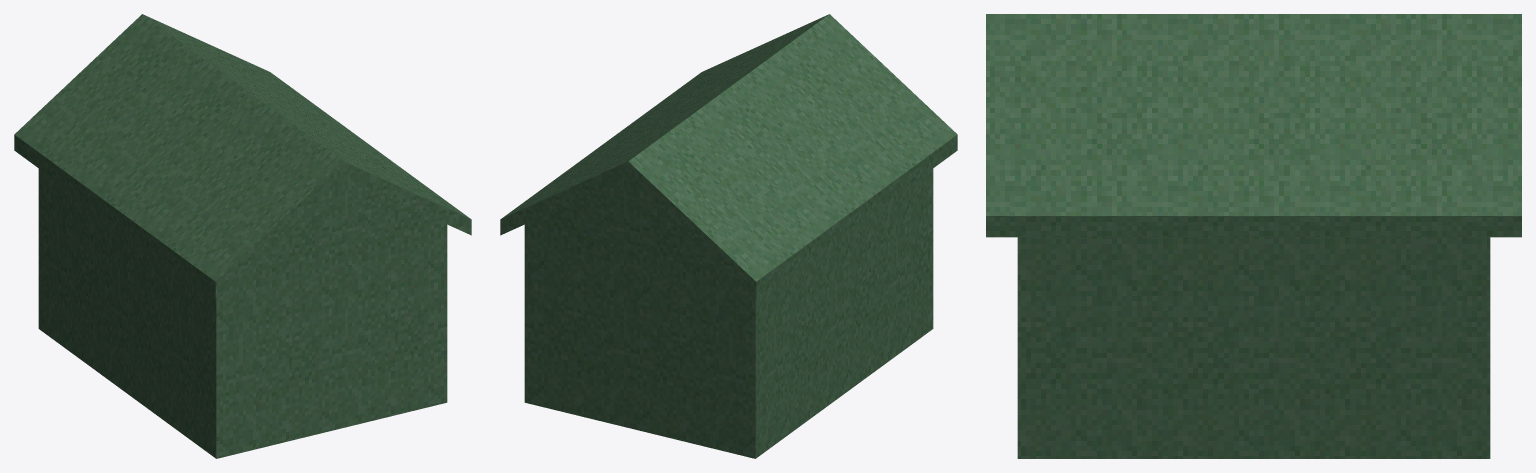
Rendered from HouseSmall.fbx.
3 views of the same model, side by side, from view 1: azimuth 30°, elevation 25°; view 2: azimuth 150°, elevation 25°; view 3: azimuth 270°, elevation 25° (orthographic). The views are drawn at different scales.
Visible parts, largest first — view 1: SmallHouse; view 2: SmallHouse; view 3: SmallHouse.
Part boxes in pixels (x1,y1,x2,y2): SmallHouse: (14, 14, 471, 458); SmallHouse: (500, 14, 957, 458); SmallHouse: (986, 14, 1521, 458).
Bounding box in the file's own units: 3.33 × 4.54 × 3.46.
